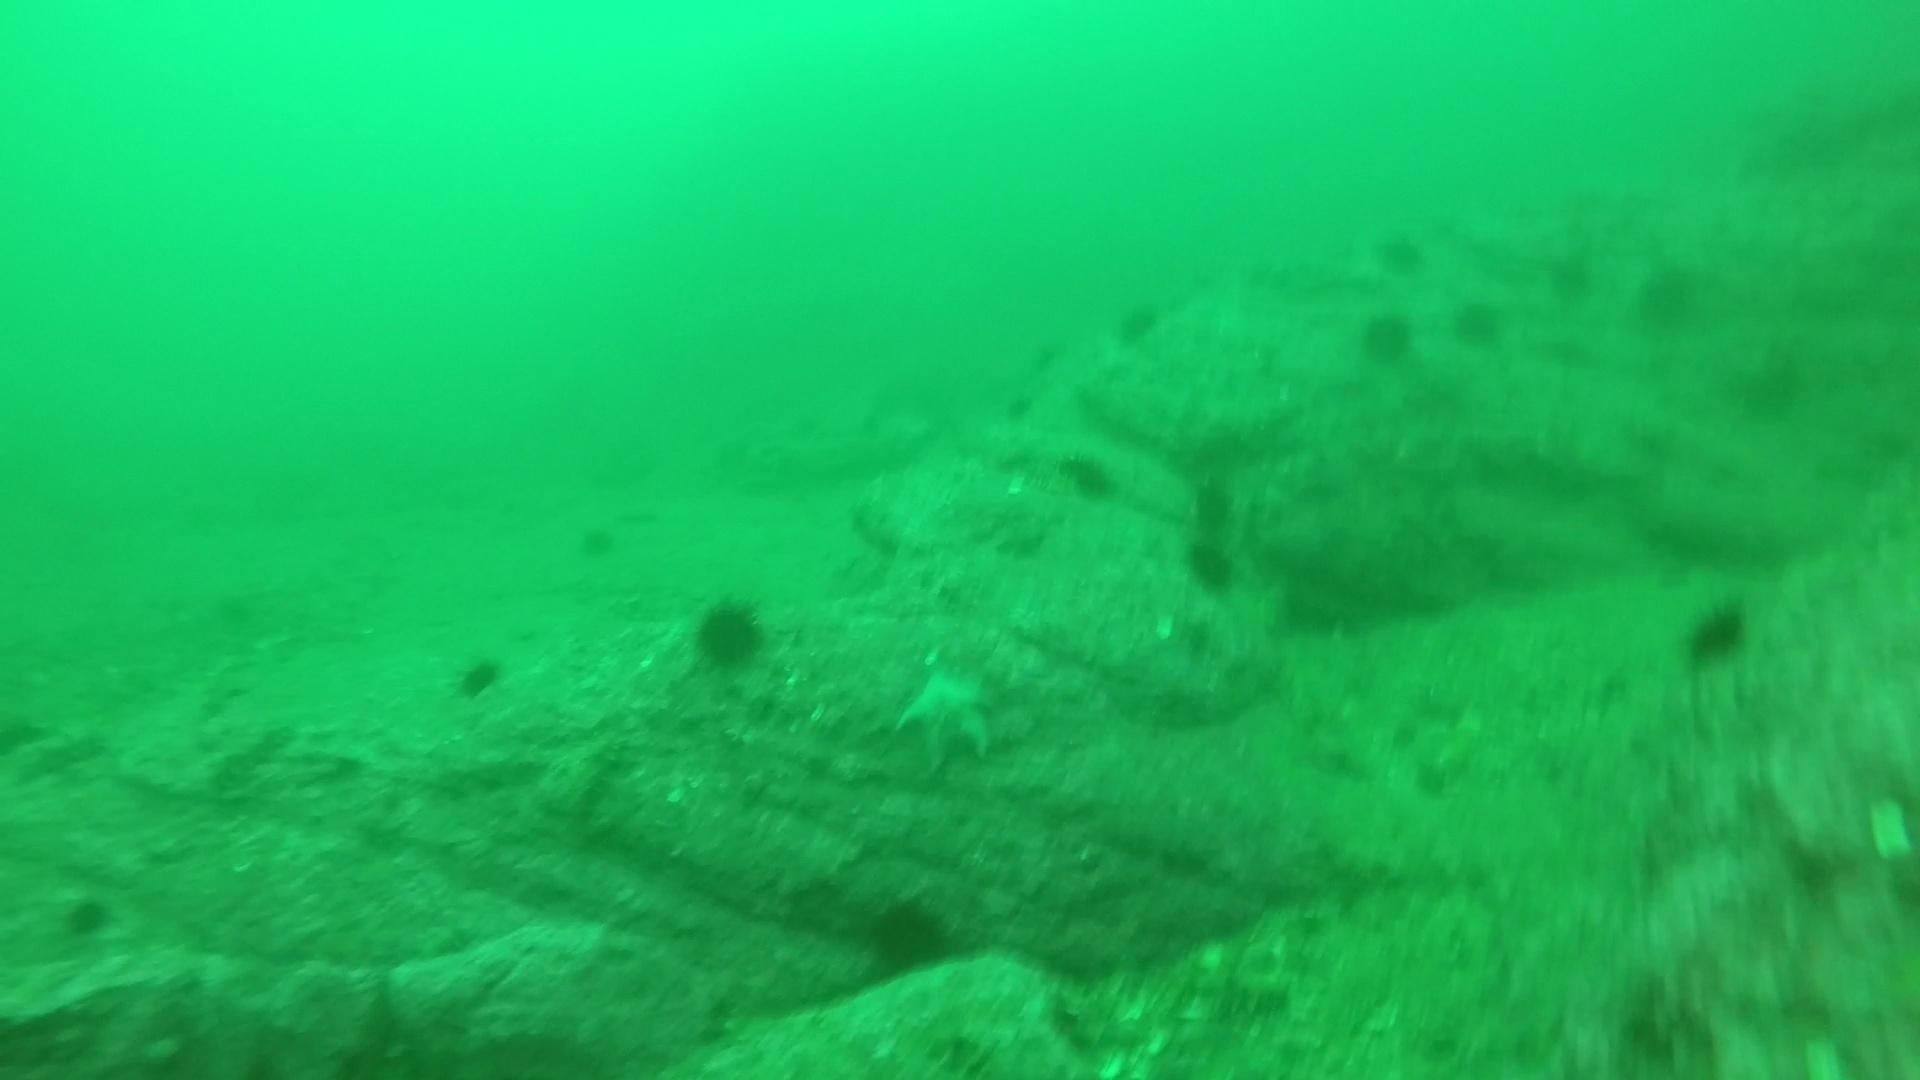echinus: (857, 891, 959, 981), (686, 591, 773, 675), (1677, 593, 1756, 670), (1633, 257, 1706, 332), (1178, 530, 1244, 599), (1180, 473, 1242, 545), (1354, 306, 1419, 368), (1056, 447, 1121, 506), (1447, 293, 1509, 351), (1542, 247, 1600, 305), (53, 895, 111, 949), (448, 650, 506, 703), (1371, 225, 1429, 278), (1110, 295, 1164, 349), (1030, 339, 1067, 373), (1005, 392, 1042, 425), (1187, 262, 1224, 295), (574, 524, 611, 556)
holothurian: (1015, 458, 1075, 496)
starfish: (887, 647, 1013, 771)
